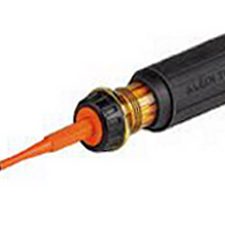Screwdriver: (1, 32, 225, 175)
